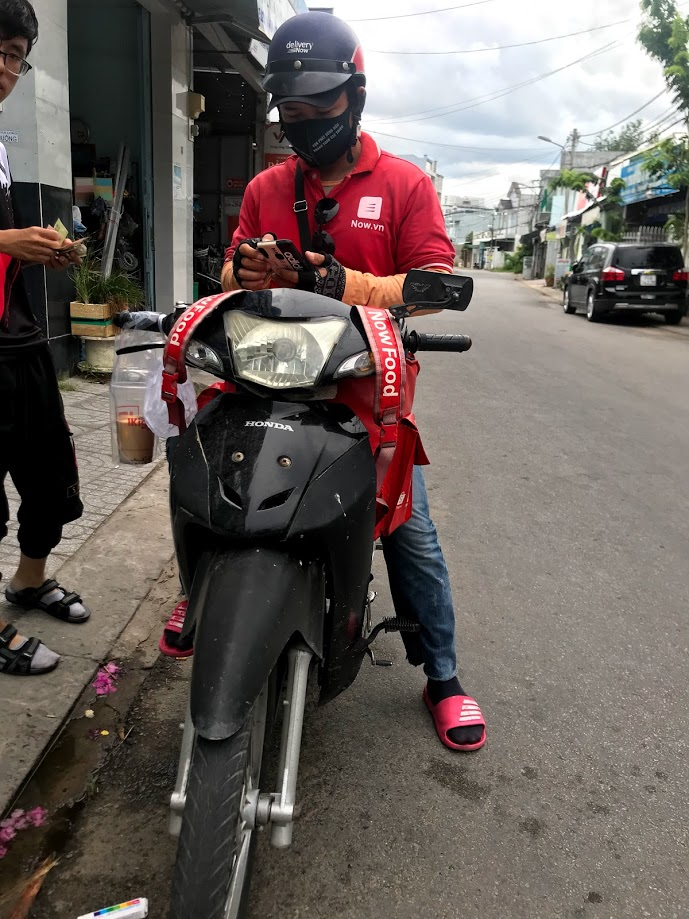dieu khien xe may: (166, 8, 454, 629)
